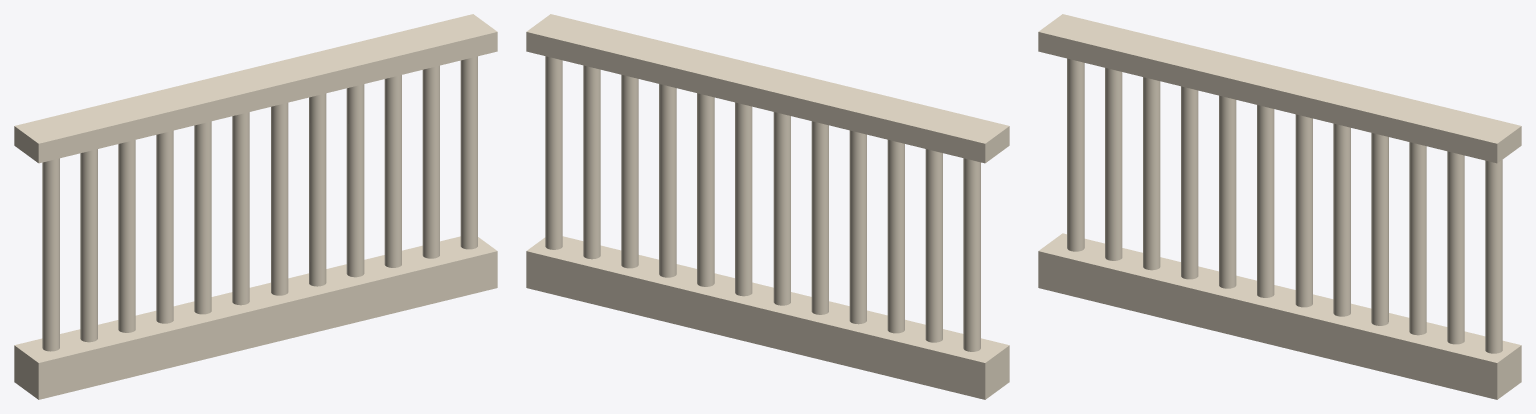
File: SM_fence_02.glb
The picture shows the model from 3 angles, left to right: view 1: azimuth 30°, elevation 25°; view 2: azimuth 150°, elevation 25°; view 3: azimuth 330°, elevation 25°; orthographic projection.
Visible parts, largest first — view 1: SM_fence_02; view 2: SM_fence_02; view 3: SM_fence_02.
Part boxes in pixels (x1,y1,x2,y2): SM_fence_02: (14, 14, 497, 399); SM_fence_02: (526, 14, 1009, 399); SM_fence_02: (1038, 14, 1521, 399).
Size of the model in its own units: 1.5 by 0.8 by 0.1381.
